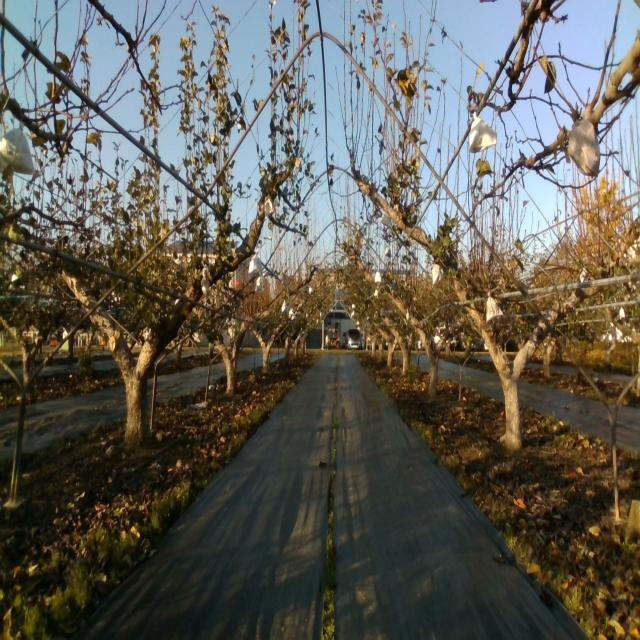pearbags: (566, 115, 601, 178), (0, 114, 36, 175), (469, 110, 497, 152), (485, 288, 504, 322), (247, 251, 266, 277), (262, 198, 276, 220), (380, 210, 393, 231), (432, 263, 444, 285), (200, 276, 211, 298)
